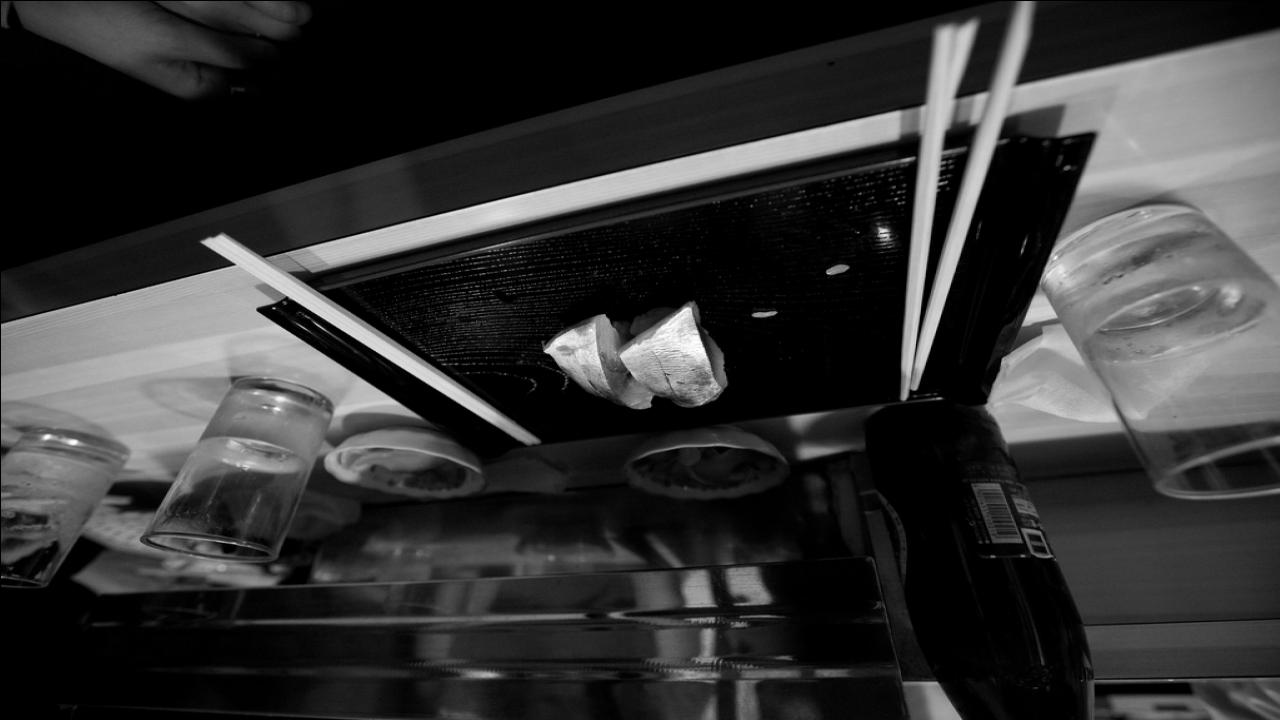chopstick: (211, 231, 541, 446), (900, 0, 1036, 399)
